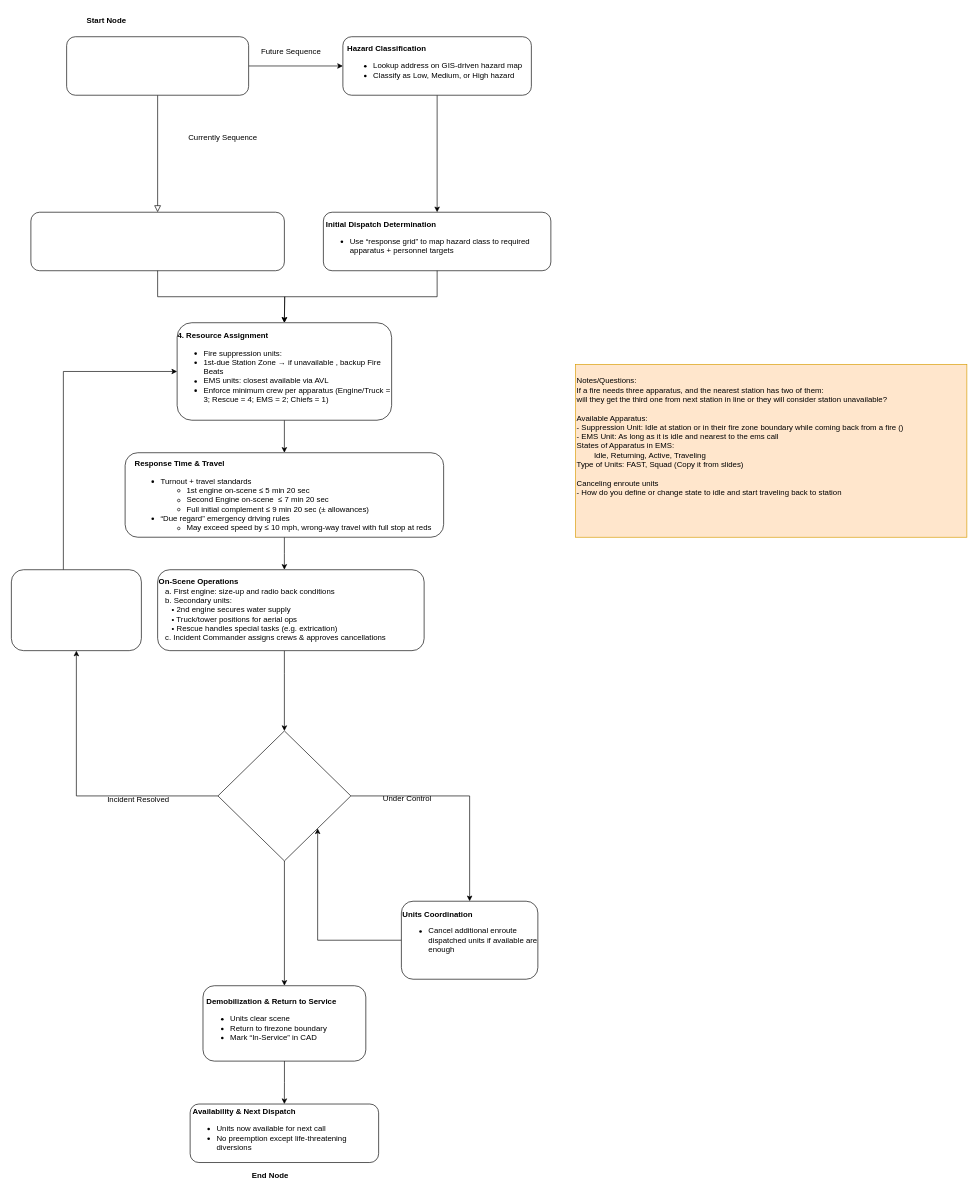
This 978x1196 diagram has some shape labels left out. Here are the shapes that lost their labels. From the top down, the box of each, then its label:
(66, 36, 249, 95): Call Receipt & Triage 911 call taken Confirm location & incident type in CAD
(30, 212, 284, 271): Initial Dispatch Determination Category Responses → Defined in the table
(11, 569, 141, 651): Units Coordination (If not already full) trigger Second Alarm → send extra units
(217, 730, 351, 861): Incident Resolved or Escalated, Under Control?
